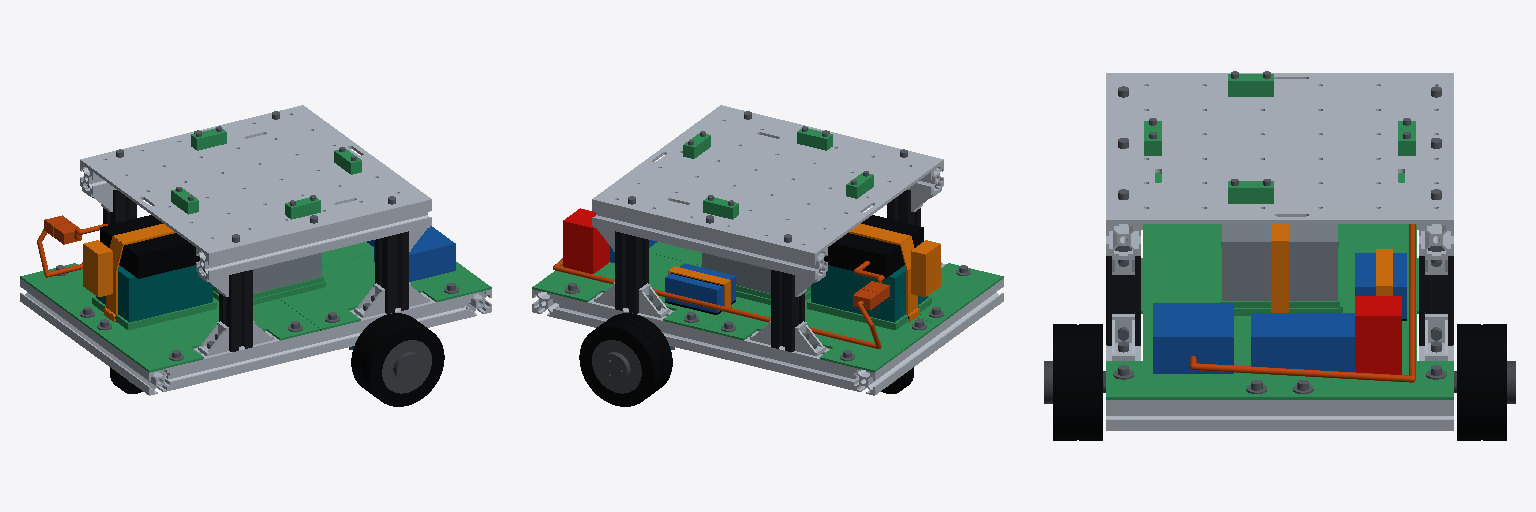
The robot description file, URDF, robot "amr_d65":
<?xml version='1.0' encoding='utf-8'?>
<robot name="amr_d65">
  <!--Generated from D6.5. SI units; +X forward, +Y left, +Z up. Inertias are estimates.-->
  <material name="aluminum">
    <color rgba="0.72 0.75 0.79 1" />
  </material>
  <material name="steel">
    <color rgba="0.38 0.4 0.43 1" />
  </material>
  <material name="pla">
    <color rgba="0.22 0.61 0.38 1" />
  </material>
  <material name="posts">
    <color rgba="0.12 0.13 0.15 1" />
  </material>
  <material name="mounts">
    <color rgba="0.15 0.43 0.69 1" />
  </material>
  <material name="motor">
    <color rgba="0.3 0.31 0.33 1" />
  </material>
  <material name="rubber">
    <color rgba="0.055 0.06 0.065 1" />
  </material>
  <material name="battery">
    <color rgba="0.02 0.4 0.4 1" />
  </material>
  <material name="computer">
    <color rgba="0.5 0.54 0.57 1" />
  </material>
  <material name="electronics">
    <color rgba="0.12 0.37 0.67 1" />
  </material>
  <material name="estop">
    <color rgba="0.85 0.08 0.06 1" />
  </material>
  <material name="belts">
    <color rgba="0.88 0.47 0.07 1" />
  </material>
  <material name="wires">
    <color rgba="0.76 0.3 0.08 1" />
  </material>
  <material name="payload">
    <color rgba="0.66 0.44 0.23 1" />
  </material>
  <link name="left_wheel_link">
    <inertial>
      <origin xyz="2.68715937167e-07 0.000842844210193 -1.43130870062e-06" rpy="0 0 0" />
      <mass value="0.45" />
      <inertia ixx="0.000337824360516" ixy="2.57511255333e-09" ixz="-2.83491628371e-11" iyy="0.000517319399072" iyz="-1.83797301139e-08" izz="0.000337817873043" />
    </inertial>
    <visual name="left_wheel_link_motor">
      <geometry>
        <mesh filename="meshes/left_wheel_link_motor.stl" scale="1 1 1" />
      </geometry>
      <material name="motor" />
    </visual>
    <visual name="left_wheel_link_rubber">
      <geometry>
        <mesh filename="meshes/left_wheel_link_rubber.stl" scale="1 1 1" />
      </geometry>
      <material name="rubber" />
    </visual>
    <collision name="left_wheel_link_rolling_contact">
      <origin xyz="0 0 0" rpy="1.57079632679 0 0" />
      <geometry>
        <cylinder radius="0.05035" length="0.043" />
      </geometry>
    </collision>
  </link>
  <link name="base_link">
    <inertial>
      <origin xyz="-0.0933472348236 -0.000822655463069 0.0802226571638" rpy="0 0 0" />
      <mass value="9.04346426469" />
      <inertia ixx="0.117202212141" ixy="0.00168122052502" ixz="0.00523642441842" iyy="0.169280236005" iyz="0.000154496357034" izz="0.222006659418" />
    </inertial>
    <visual name="base_link_motor">
      <geometry>
        <mesh filename="meshes/base_link_motor.stl" scale="1 1 1" />
      </geometry>
      <material name="motor" />
    </visual>
    <visual name="base_link_steel">
      <geometry>
        <mesh filename="meshes/base_link_steel.stl" scale="1 1 1" />
      </geometry>
      <material name="steel" />
    </visual>
    <visual name="base_link_aluminum">
      <geometry>
        <mesh filename="meshes/base_link_aluminum.stl" scale="1 1 1" />
      </geometry>
      <material name="aluminum" />
    </visual>
    <visual name="base_link_mounts">
      <geometry>
        <mesh filename="meshes/base_link_mounts.stl" scale="1 1 1" />
      </geometry>
      <material name="mounts" />
    </visual>
    <visual name="base_link_pla">
      <geometry>
        <mesh filename="meshes/base_link_pla.stl" scale="1 1 1" />
      </geometry>
      <material name="pla" />
    </visual>
    <visual name="base_link_posts">
      <geometry>
        <mesh filename="meshes/base_link_posts.stl" scale="1 1 1" />
      </geometry>
      <material name="posts" />
    </visual>
    <visual name="base_link_electronics">
      <geometry>
        <mesh filename="meshes/base_link_electronics.stl" scale="1 1 1" />
      </geometry>
      <material name="electronics" />
    </visual>
    <visual name="base_link_estop">
      <geometry>
        <mesh filename="meshes/base_link_estop.stl" scale="1 1 1" />
      </geometry>
      <material name="estop" />
    </visual>
    <visual name="base_link_computer">
      <geometry>
        <mesh filename="meshes/base_link_computer.stl" scale="1 1 1" />
      </geometry>
      <material name="computer" />
    </visual>
    <visual name="base_link_battery">
      <geometry>
        <mesh filename="meshes/base_link_battery.stl" scale="1 1 1" />
      </geometry>
      <material name="battery" />
    </visual>
    <visual name="base_link_rubber">
      <geometry>
        <mesh filename="meshes/base_link_rubber.stl" scale="1 1 1" />
      </geometry>
      <material name="rubber" />
    </visual>
    <visual name="base_link_belts">
      <geometry>
        <mesh filename="meshes/base_link_belts.stl" scale="1 1 1" />
      </geometry>
      <material name="belts" />
    </visual>
    <visual name="base_link_wires">
      <geometry>
        <mesh filename="meshes/base_link_wires.stl" scale="1 1 1" />
      </geometry>
      <material name="wires" />
    </visual>
    <collision name="base_link_Rail400_1">
      <origin xyz="-0.09 -0.135 0.03365" rpy="0 0 0" />
      <geometry>
        <box size="0.4 0.03 0.03" />
      </geometry>
    </collision>
    <collision name="base_link_Rail400_2">
      <origin xyz="-0.09 -0.065 0.03365" rpy="0 0 0" />
      <geometry>
        <box size="0.4 0.03 0.03" />
      </geometry>
    </collision>
    <collision name="base_link_Rail400_3">
      <origin xyz="-0.09 0.065 0.03365" rpy="0 0 0" />
      <geometry>
        <box size="0.4 0.03 0.03" />
      </geometry>
    </collision>
    <collision name="base_link_Rail400_4">
      <origin xyz="-0.09 0.135 0.03365" rpy="0 0 0" />
      <geometry>
        <box size="0.4 0.03 0.03" />
      </geometry>
    </collision>
    <collision name="base_link_Cross300_1">
      <origin xyz="-0.305 0 0.03365" rpy="0 0 0" />
      <geometry>
        <box size="0.03 0.3 0.03" />
      </geometry>
    </collision>
    <collision name="base_link_Cross300_2">
      <origin xyz="0.125 0 0.03365" rpy="0 0 0" />
      <geometry>
        <box size="0.03 0.3 0.03" />
      </geometry>
    </collision>
    <collision name="base_link_CustomMotorMountL">
      <origin xyz="0 0.135 0.00165" rpy="0 0 0" />
      <geometry>
        <box size="0.09 0.03 0.034" />
      </geometry>
    </collision>
    <collision name="base_link_CustomMotorMountR">
      <origin xyz="0 -0.135 0.00165" rpy="0 0 0" />
      <geometry>
        <box size="0.09 0.03 0.034" />
      </geometry>
    </collision>
    <collision name="base_link_CasterAdapter">
      <origin xyz="-0.24 0 0.01665" rpy="0 0 0" />
      <geometry>
        <box size="0.08 0.17 0.004" />
      </geometry>
    </collision>
    <collision name="base_link_CasterTop">
      <origin xyz="-0.24 0 0.0134" rpy="0 0 0" />
      <geometry>
        <box size="0.059 0.047 0.0025" />
      </geometry>
    </collision>
    <collision name="base_link_Reserved_Protection">
      <origin xyz="0.08 -0.075 0.07915" rpy="0 0 0" />
      <geometry>
        <box size="0.07 0.07 0.035" />
      </geometry>
    </collision>
    <collision name="base_link_Reserved_ClampAndPower">
      <origin xyz="0.09 0.02 0.07915" rpy="0 0 0" />
      <geometry>
        <box size="0.05 0.09 0.035" />
      </geometry>
    </collision>
    <collision name="base_link_Reserved_EmergencyStop">
      <origin xyz="0.105 0.085 0.09165" rpy="0 0 0" />
      <geometry>
        <box size="0.04 0.04 0.06" />
      </geometry>
    </collision>
    <collision name="base_link_Reserved_SupervisorRS485">
      <origin xyz="-0.05 0.0875 0.06865" rpy="0 0 0" />
      <geometry>
        <box size="0.07 0.045 0.03" />
      </geometry>
    </collision>
    <collision name="base_link_Reserved_Computer">
      <origin xyz="-0.09 0 0.08965" rpy="0 0 0" />
      <geometry>
        <box size="0.12 0.1 0.06" />
      </geometry>
    </collision>
    <collision name="base_link_AluminumDeckD3">
      <origin xyz="-0.09 0 0.18065" rpy="0 0 0" />
      <geometry>
        <box size="0.3 0.3 0.004" />
      </geometry>
    </collision>
    <collision name="base_link_PrintedStopXN">
      <origin xyz="-0.1995 -0.025 0.19015" rpy="0 0 0" />
      <geometry>
        <box size="0.015 0.04 0.015" />
      </geometry>
    </collision>
    <collision name="base_link_PrintedStopXP">
      <origin xyz="0.0195 -0.025 0.19015" rpy="0 0 0" />
      <geometry>
        <box size="0.015 0.04 0.015" />
      </geometry>
    </collision>
    <collision name="base_link_PrintedStopYN">
      <origin xyz="-0.09 -0.1095 0.19015" rpy="0 0 0" />
      <geometry>
        <box size="0.04 0.015 0.015" />
      </geometry>
    </collision>
    <collision name="base_link_PrintedStopYP">
      <origin xyz="-0.09 0.1095 0.19015" rpy="0 0 0" />
      <geometry>
        <box size="0.04 0.015 0.015" />
      </geometry>
    </collision>
    <collision name="base_link_Upright3030_0">
      <origin xyz="-0.195 -0.135 0.09865" rpy="0 0 0" />
      <geometry>
        <box size="0.03 0.03 0.1" />
      </geometry>
    </collision>
    <collision name="base_link_Upright3030_1">
      <origin xyz="-0.195 0.135 0.09865" rpy="0 0 0" />
      <geometry>
        <box size="0.03 0.03 0.1" />
      </geometry>
    </collision>
    <collision name="base_link_Upright3030_2">
      <origin xyz="0.015 -0.135 0.09865" rpy="0 0 0" />
      <geometry>
        <box size="0.03 0.03 0.1" />
      </geometry>
    </collision>
    <collision name="base_link_Upright3030_3">
      <origin xyz="0.015 0.135 0.09865" rpy="0 0 0" />
      <geometry>
        <box size="0.03 0.03 0.1" />
      </geometry>
    </collision>
    <collision name="base_link_UpperRail3030_0">
      <origin xyz="-0.09 -0.135 0.16365" rpy="0 0 0" />
      <geometry>
        <box size="0.3 0.03 0.03" />
      </geometry>
    </collision>
    <collision name="base_link_UpperRail3030_1">
      <origin xyz="-0.09 0.135 0.16365" rpy="0 0 0" />
      <geometry>
        <box size="0.3 0.03 0.03" />
      </geometry>
    </collision>
    <collision name="base_link_seam_beam_0">
      <origin xyz="-0.09 0 0.0449" rpy="0 0 0" />
      <geometry>
        <box size="0.064 0.1 0.0025" />
      </geometry>
    </collision>
    <collision name="base_link_seam_beam_1">
      <origin xyz="-0.09 -0.02925 0.0474" rpy="0 0 0" />
      <geometry>
        <box size="0.064 0.0415 0.0025" />
      </geometry>
    </collision>
    <collision name="base_link_seam_beam_2">
      <origin xyz="-0.09 0.02925 0.0474" rpy="0 0 0" />
      <geometry>
        <box size="0.064 0.0415 0.0025" />
      </geometry>
    </collision>
    <collision name="base_link_seam_beam_3">
      <origin xyz="-0.1204 0 0.03615" rpy="0 0 0" />
      <geometry>
        <box size="0.0032 0.1 0.015" />
      </geometry>
    </collision>
    <collision name="base_link_seam_beam_4">
      <origin xyz="-0.0596 0 0.03615" rpy="0 0 0" />
      <geometry>
        <box size="0.0032 0.1 0.015" />
      </geometry>
    </collision>
    <collision name="base_link_seam_beam_5">
      <origin xyz="-0.09 -0.0484 0.03365" rpy="0 0 0" />
      <geometry>
        <box size="0.064 0.0032 0.02" />
      </geometry>
    </collision>
    <collision name="base_link_seam_beam_6">
      <origin xyz="-0.09 0.0484 0.03365" rpy="0 0 0" />
      <geometry>
        <box size="0.064 0.0032 0.02" />
      </geometry>
    </collision>
    <collision name="base_link_FloorPLA_0_0">
      <origin xyz="-0.2051 -0.0751 0.04985" rpy="0 0 0" />
      <geometry>
        <box size="0.2298 0.1498 0.0024" />
      </geometry>
    </collision>
    <collision name="base_link_FloorPLA_0_0_rib">
      <origin xyz="-0.206 -0.0235 0.04115" rpy="0 0 0" />
      <geometry>
        <box size="0.168 0.0174 0.015" />
      </geometry>
    </collision>
    <collision name="base_link_FloorPLA_0_1">
      <origin xyz="-0.2051 0.0751 0.04985" rpy="0 0 0" />
      <geometry>
        <box size="0.2298 0.1498 0.0024" />
      </geometry>
    </collision>
    <collision name="base_link_FloorPLA_0_1_rib">
      <origin xyz="-0.206 0.0235 0.04115" rpy="0 0 0" />
      <geometry>
        <box size="0.168 0.0174 0.015" />
      </geometry>
    </collision>
    <collision name="base_link_FloorPLA_1_0">
      <origin xyz="0.0251 -0.0751 0.04985" rpy="0 0 0" />
      <geometry>
        <box size="0.2298 0.1498 0.0024" />
      </geometry>
    </collision>
    <collision name="base_link_FloorPLA_1_0_rib">
      <origin xyz="0.026 -0.0235 0.04115" rpy="0 0 0" />
      <geometry>
        <box size="0.168 0.0174 0.015" />
      </geometry>
    </collision>
    <collision name="base_link_FloorPLA_1_1">
      <origin xyz="0.0251 0.0751 0.04985" rpy="0 0 0" />
      <geometry>
        <box size="0.2298 0.1498 0.0024" />
      </geometry>
    </collision>
    <collision name="base_link_FloorPLA_1_1_rib">
      <origin xyz="0.026 0.0235 0.04115" rpy="0 0 0" />
      <geometry>
        <box size="0.168 0.0174 0.015" />
      </geometry>
    </collision>
    <collision name="base_link_ComputerBarrierPLA">
      <origin xyz="-0.09 0 0.05745" rpy="0 0 0" />
      <geometry>
        <box size="0.1234 0.1034 0.0124" />
      </geometry>
    </collision>
    <collision name="base_link_BatteryBL1860B">
      <origin xyz="-0.2265 0 0.08465" rpy="0 0 0" />
      <geometry>
        <box size="0.113 0.075 0.062" />
      </geometry>
    </collision>
    <collision name="base_link_BatteryAdapter03">
      <origin xyz="-0.2265 0 0.13065" rpy="0 0 0" />
      <geometry>
        <box size="0.095 0.09 0.03" />
      </geometry>
    </collision>
    <collision name="base_link_BatteryBuckleEnvelope">
      <origin xyz="-0.302 0 0.11715" rpy="0 0 0" />
      <geometry>
        <box size="0.02 0.035 0.055" />
      </geometry>
    </collision>
  </link>
  <link name="right_wheel_link">
    <inertial>
      <origin xyz="-2.68715937167e-07 -0.000842844210193 -1.43130870061e-06" rpy="0 0 0" />
      <mass value="0.45" />
      <inertia ixx="0.000337824360516" ixy="2.57511255324e-09" ixz="2.83491629754e-11" iyy="0.000517319399072" iyz="1.83797301136e-08" izz="0.000337817873043" />
    </inertial>
    <visual name="right_wheel_link_motor">
      <geometry>
        <mesh filename="meshes/right_wheel_link_motor.stl" scale="1 1 1" />
      </geometry>
      <material name="motor" />
    </visual>
    <visual name="right_wheel_link_rubber">
      <geometry>
        <mesh filename="meshes/right_wheel_link_rubber.stl" scale="1 1 1" />
      </geometry>
      <material name="rubber" />
    </visual>
    <collision name="right_wheel_link_rolling_contact">
      <origin xyz="0 0 0" rpy="1.57079632679 0 0" />
      <geometry>
        <cylinder radius="0.05035" length="0.043" />
      </geometry>
    </collision>
  </link>
  <link name="caster_swivel_link">
    <inertial>
      <origin xyz="-0.00208368833284 3.45547710101e-19 -0.0060383207606" rpy="0 0 0" />
      <mass value="0.0887160418696" />
      <inertia ixx="2.00832544816e-05" ixy="4.85850705141e-22" ixz="-4.29660604946e-06" iyy="1.90849352283e-05" iyz="-2.53397249247e-22" izz="1.76394659271e-05" />
    </inertial>
    <visual name="caster_swivel_link_steel">
      <geometry>
        <mesh filename="meshes/caster_swivel_link_steel.stl" scale="1 1 1" />
      </geometry>
      <material name="steel" />
    </visual>
    <collision name="caster_swivel_link_swivel_race">
      <origin xyz="0 0 0" rpy="0 0 0" />
      <geometry>
        <cylinder radius="0.019" length="0.009" />
      </geometry>
    </collision>
    <collision name="caster_swivel_link_fork_0">
      <origin xyz="-0.003 -0.0125 -0.01875" rpy="0 0 0" />
      <geometry>
        <box size="0.036 0.003 0.0285" />
      </geometry>
    </collision>
    <collision name="caster_swivel_link_fork_1">
      <origin xyz="-0.003 0.0125 -0.01875" rpy="0 0 0" />
      <geometry>
        <box size="0.036 0.003 0.0285" />
      </geometry>
    </collision>
    <collision name="caster_swivel_link_fork_2">
      <origin xyz="-0.016 0 -0.033" rpy="0 0 0" />
      <geometry>
        <box size="0.006 0.032 0.006" />
      </geometry>
    </collision>
  </link>
  <link name="caster_wheel_link">
    <inertial>
      <origin xyz="2.84217094304e-17 2.29472925463e-19 0" rpy="0 0 0" />
      <mass value="0.035507350075" />
      <inertia ixx="6.57068391835e-06" ixy="2.3584551378e-23" ixz="-1.75899594661e-20" iyy="1.0774211165e-05" iyz="-2.27653595497e-22" izz="6.57068391835e-06" />
    </inertial>
    <visual name="caster_wheel_link_rubber">
      <geometry>
        <mesh filename="meshes/caster_wheel_link_rubber.stl" scale="1 1 1" />
      </geometry>
      <material name="rubber" />
    </visual>
    <visual name="caster_wheel_link_steel">
      <geometry>
        <mesh filename="meshes/caster_wheel_link_steel.stl" scale="1 1 1" />
      </geometry>
      <material name="steel" />
    </visual>
    <collision name="caster_wheel_link_rolling_contact">
      <origin xyz="0 0 0" rpy="1.57079632679 0 0" />
      <geometry>
        <cylinder radius="0.025" length="0.02" />
      </geometry>
    </collision>
  </link>
  <joint name="left_wheel_joint" type="continuous">
    <parent link="base_link" />
    <child link="left_wheel_link" />
    <origin xyz="0 0.1745 0" rpy="0 0 0" />
    <axis xyz="0 1 0" />
    <limit effort="0.96" velocity="12.0427718388" />
    <dynamics damping="0" friction="0" />
  </joint>
  <joint name="right_wheel_joint" type="continuous">
    <parent link="base_link" />
    <child link="right_wheel_link" />
    <origin xyz="0 -0.1745 0" rpy="0 0 0" />
    <axis xyz="0 1 0" />
    <limit effort="0.96" velocity="12.0427718388" />
    <dynamics damping="0" friction="0" />
  </joint>
  <joint name="caster_swivel_joint" type="continuous">
    <parent link="base_link" />
    <child link="caster_swivel_link" />
    <origin xyz="-0.24 0 0.00765" rpy="0 0 0" />
    <axis xyz="0 0 1" />
    <limit effort="0" velocity="30" />
    <dynamics damping="0" friction="0" />
  </joint>
  <joint name="caster_wheel_joint" type="continuous">
    <parent link="caster_swivel_link" />
    <child link="caster_wheel_link" />
    <origin xyz="-0.016 0 -0.033" rpy="0 0 0" />
    <axis xyz="0 1 0" />
    <limit effort="0" velocity="30" />
    <dynamics damping="0" friction="0" />
  </joint>
</robot>

--- Render facts (derived) ---
The picture shows the robot from 3 angles, left to right: view 1: azimuth 30°, elevation 25°; view 2: azimuth 150°, elevation 25°; view 3: azimuth 270°, elevation 25°; orthographic projection.
Robot: amr_d65 — 5 links, 4 joints (4 continuous); root link base_link; default pose: all joints at 0.
Visible links, largest first — view 1: base_link, right_wheel_link; view 2: base_link, left_wheel_link; view 3: base_link, left_wheel_link, right_wheel_link.
Link boxes in pixels (x1,y1,x2,y2): base_link: (20, 105, 491, 395); right_wheel_link: (351, 313, 444, 406); base_link: (532, 105, 1003, 395); left_wheel_link: (579, 313, 672, 406); base_link: (1103, 71, 1456, 430); left_wheel_link: (1457, 324, 1515, 440); right_wheel_link: (1044, 324, 1102, 440).
Size in the robot's own frame: 0.46 by 0.4066 by 0.252 metres.
20 mesh visuals loaded from 20 distinct referenced files (20 binary STL).
